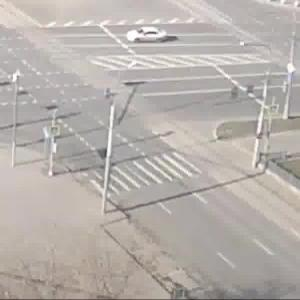car: (129, 26, 175, 50)
